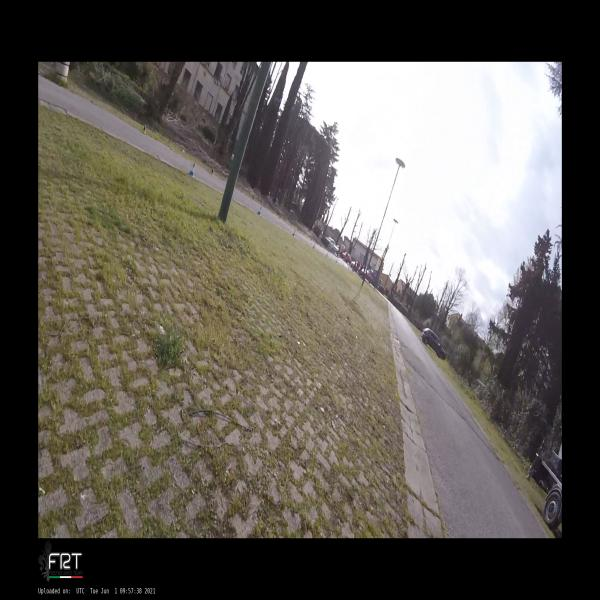blue_cone: (189, 164, 195, 178), (258, 206, 262, 216), (292, 230, 296, 237), (313, 243, 315, 249), (326, 253, 328, 257)
yellow_cone: (142, 124, 146, 134)
